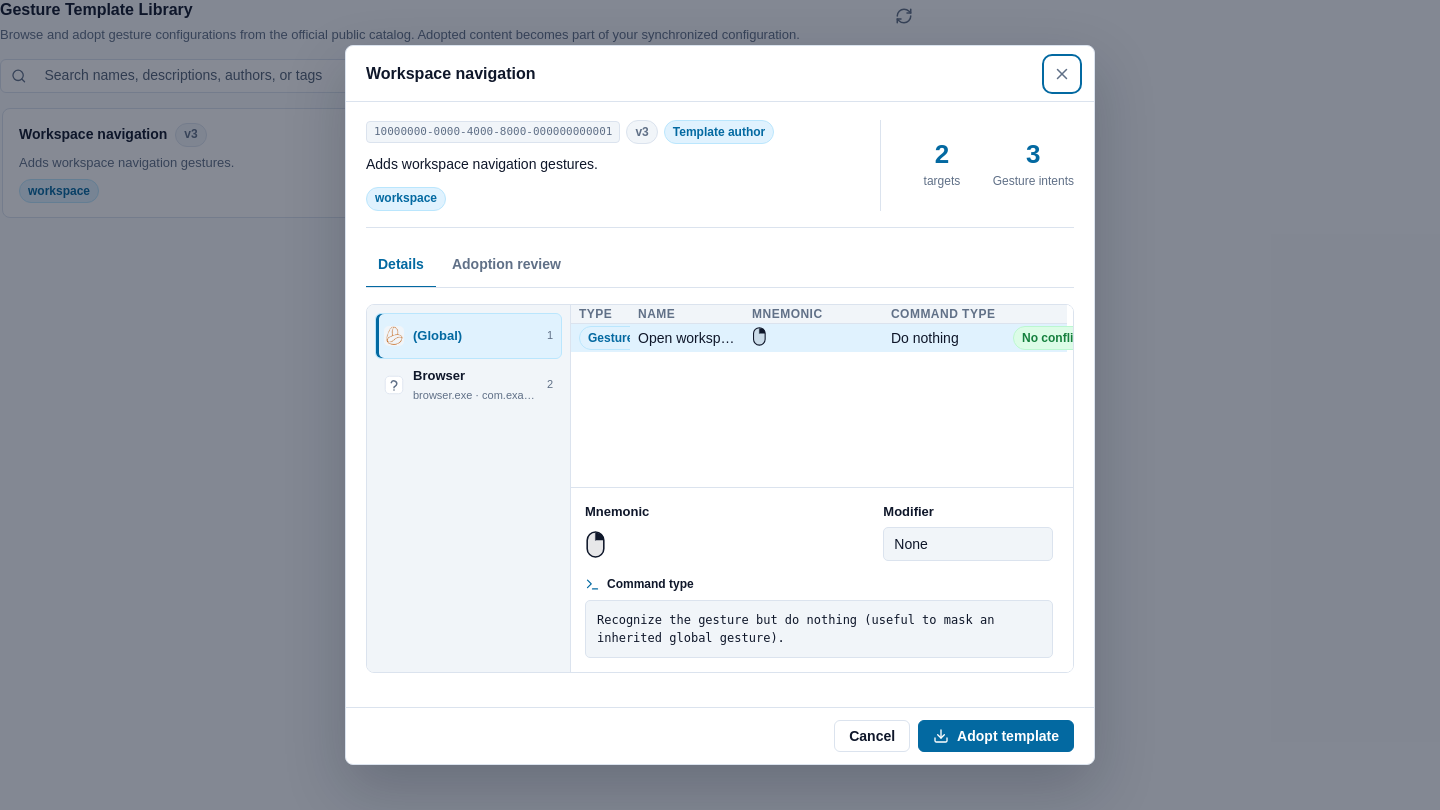
TemplatesView › keeps target, gesture, and preview selection synchronized
What coordinates should you click on to do the following:
click the button with class "template-detail__app-button" that starts with "Browser"
I would click on:
 (468, 385)
Its box is [375,359,562,411].
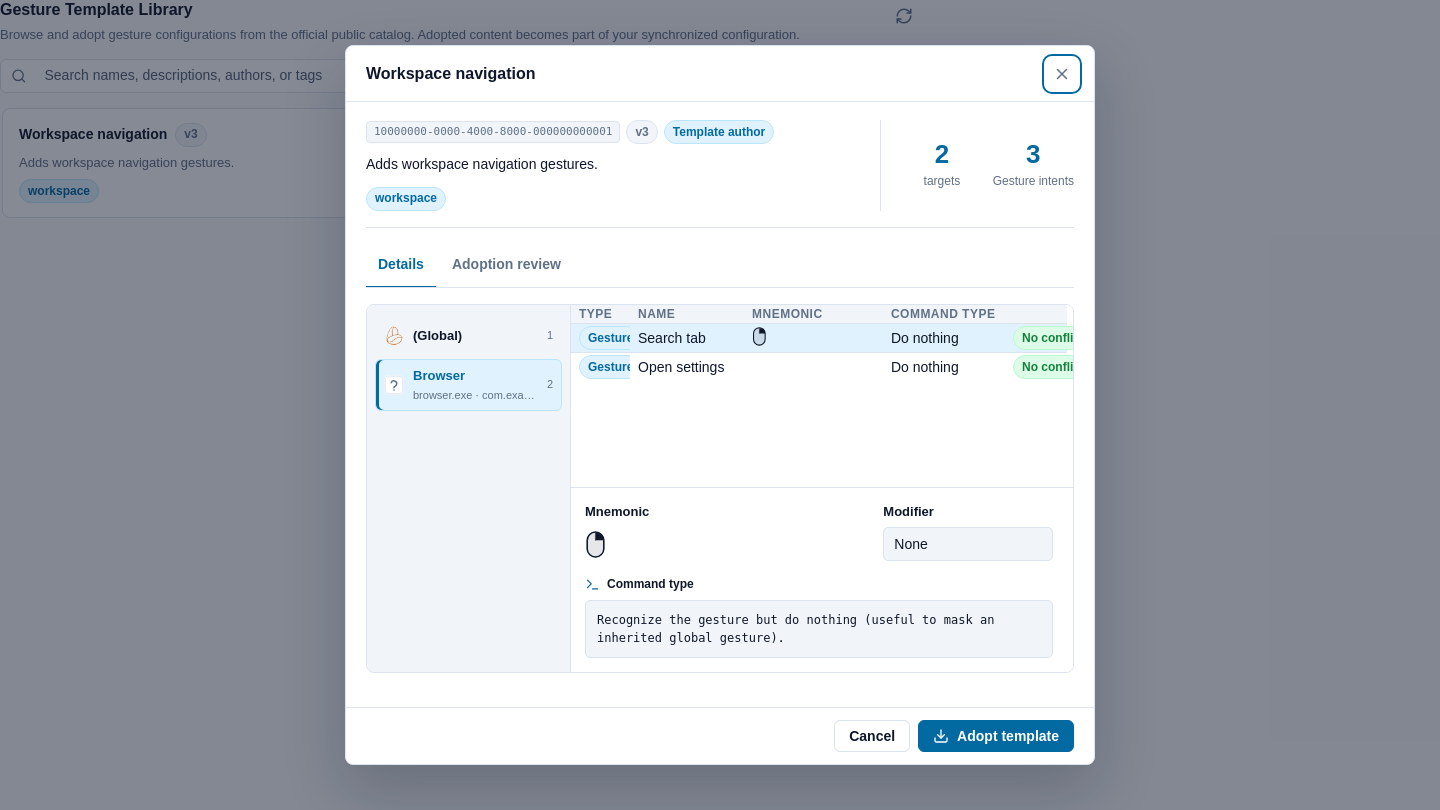
Check: the row "Gesture Search tab Do nothing No conflict" is shown, box [571,324,1067,353]
Check: the element with class "template-detail__main" shows "Search tab", box [638,330,706,346]
Check: the row "Gesture Open settings Do nothing No conflict" is shown
What coordinates should you click on to do the following:
click the row "Gesture Open settings Do nothing No conflict"
I would click on:
 (611, 367)
Its box is [571,353,1067,381].
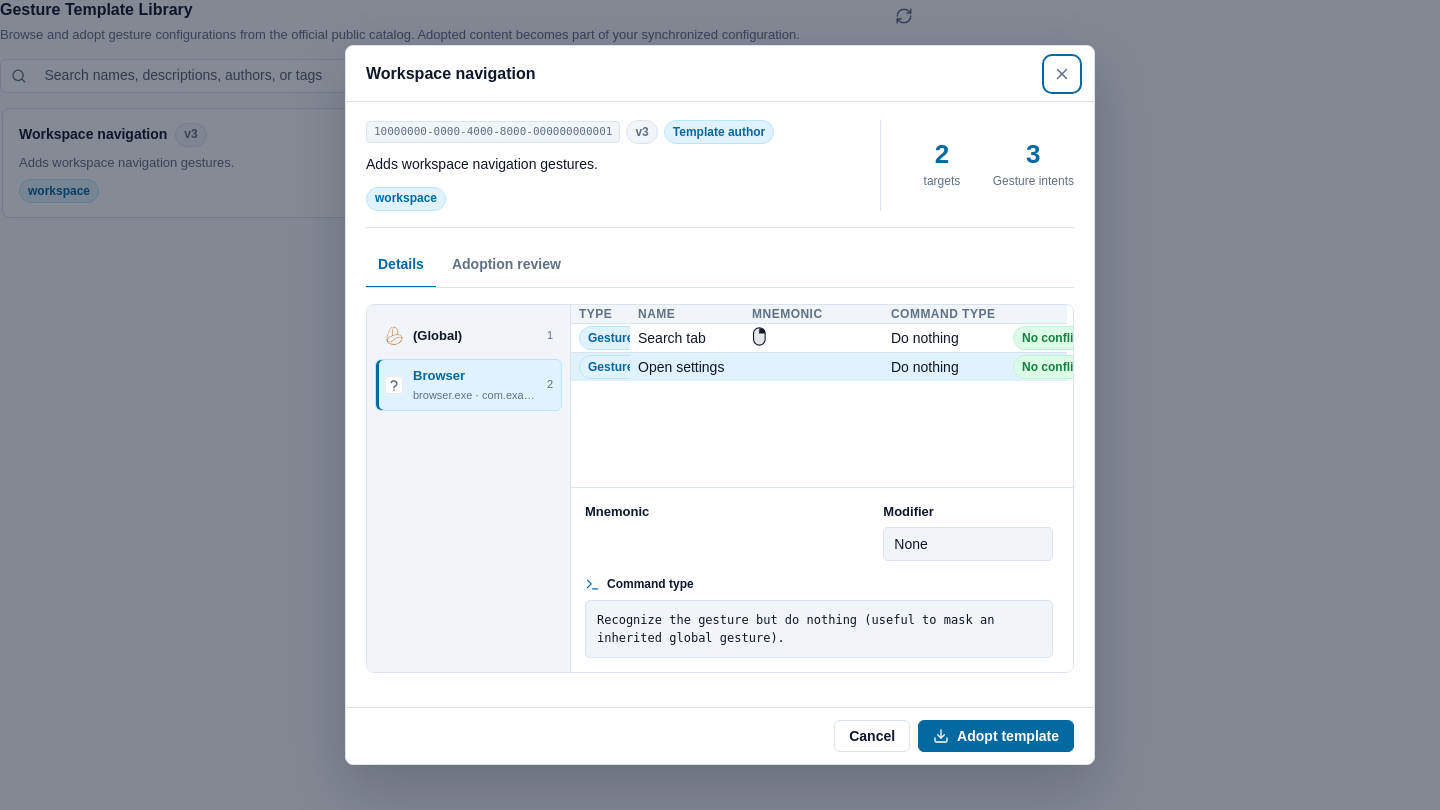
What coordinates should you click on to do the following:
click the button with class "template-detail__app-button" showing "(Global) 1"
I would click on:
 (468, 336)
Its box is [375,313,562,359].
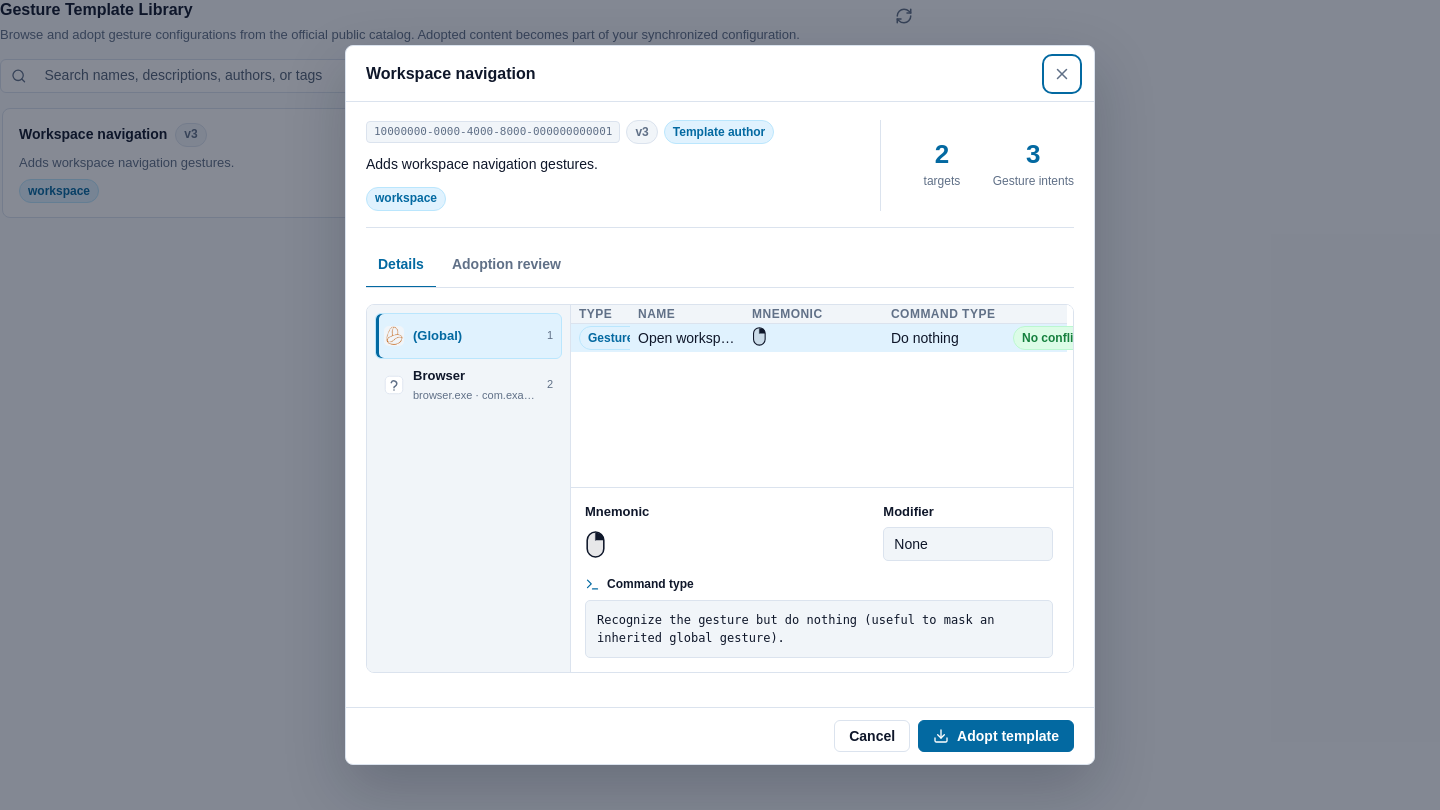
Check: the row "Gesture Open workspace Do nothing No conflict" is shown, box [571,324,1067,352]
Check: the element with class "template-detail__main" shows "Open workspace", box [638,330,743,346]
